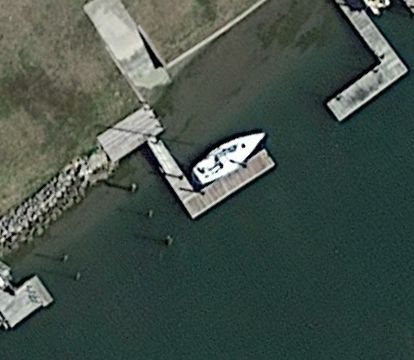boat: (190, 131, 270, 188)
